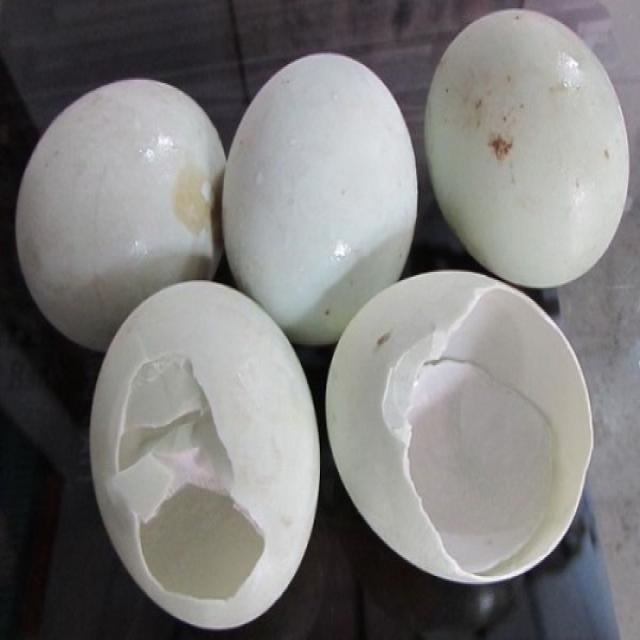Organik: (319, 268, 607, 590), (86, 276, 320, 627), (208, 45, 433, 348), (14, 63, 233, 352), (427, 0, 640, 287)
